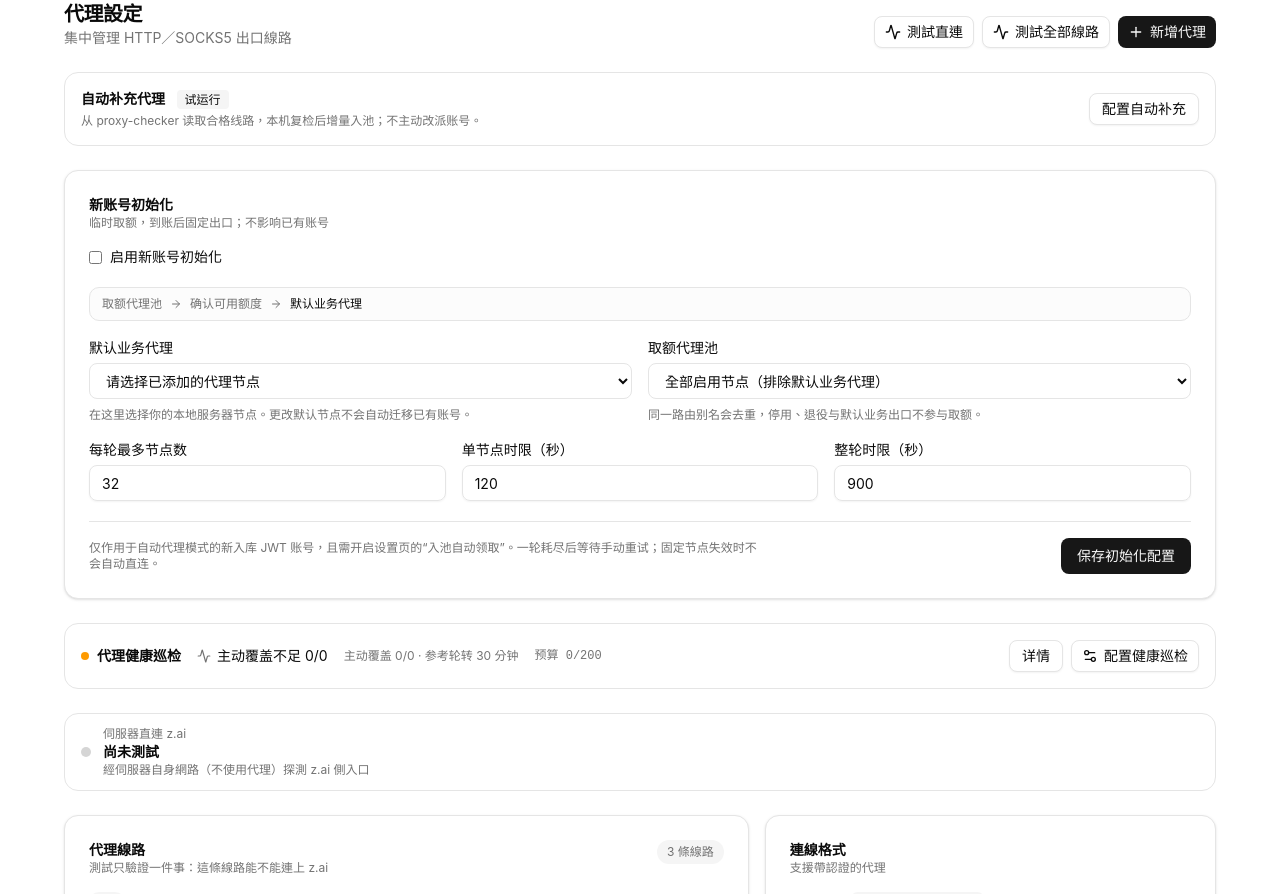
Test case: 自动覆盖无需手工选择：表格列出全部启用线路并展示账号择优依据
Click the button "详情" at [1036, 656], box [1009,640,1063,672]
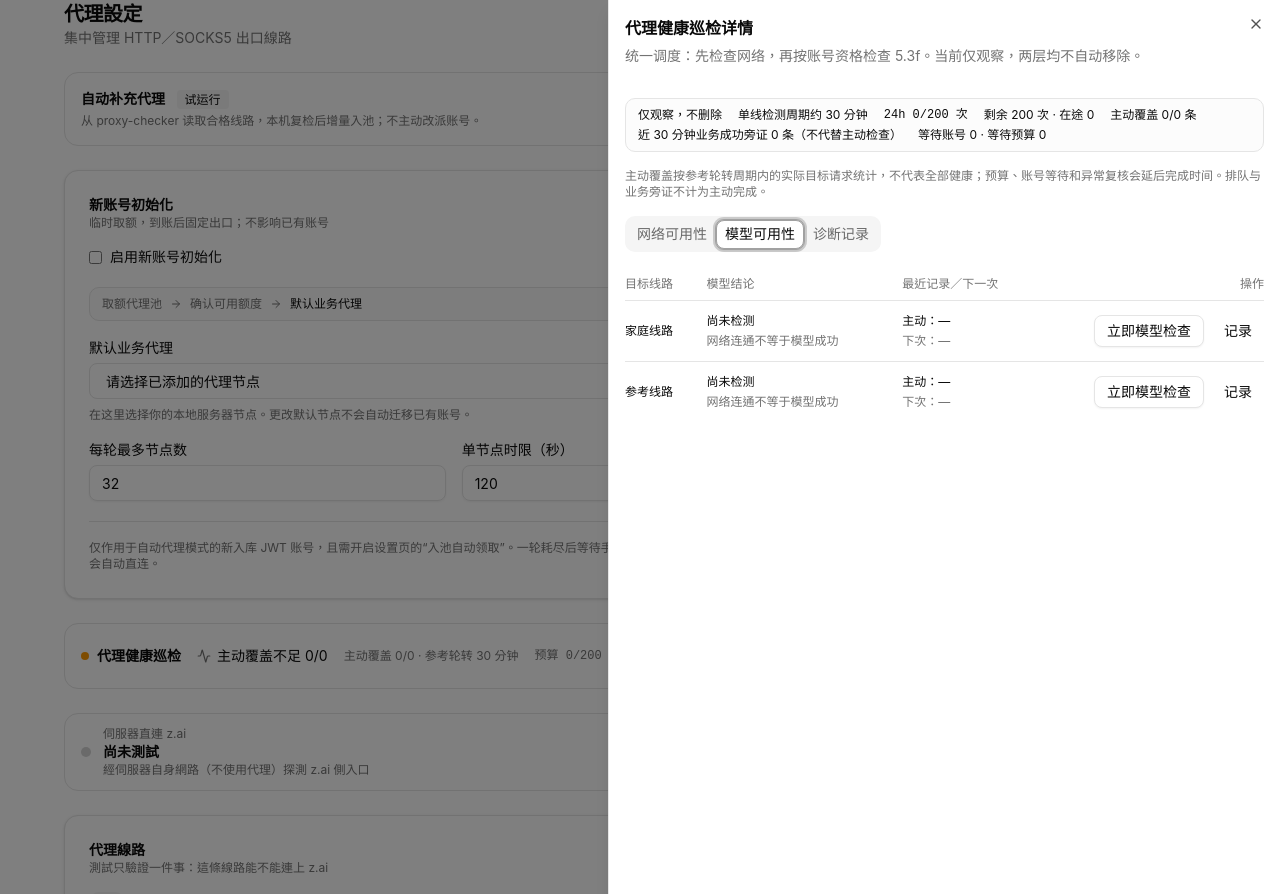
Expected: the element showing "网络可用性 模型可用性 诊断记录" is shown, [625,216,881,252]
Expected: the button with aria-label "立即模型检查：家庭线路" is shown, [1094,315,1204,347]
Expected: the button with aria-label "立即模型检查：参考线路" is shown, [1094,376,1204,408]
